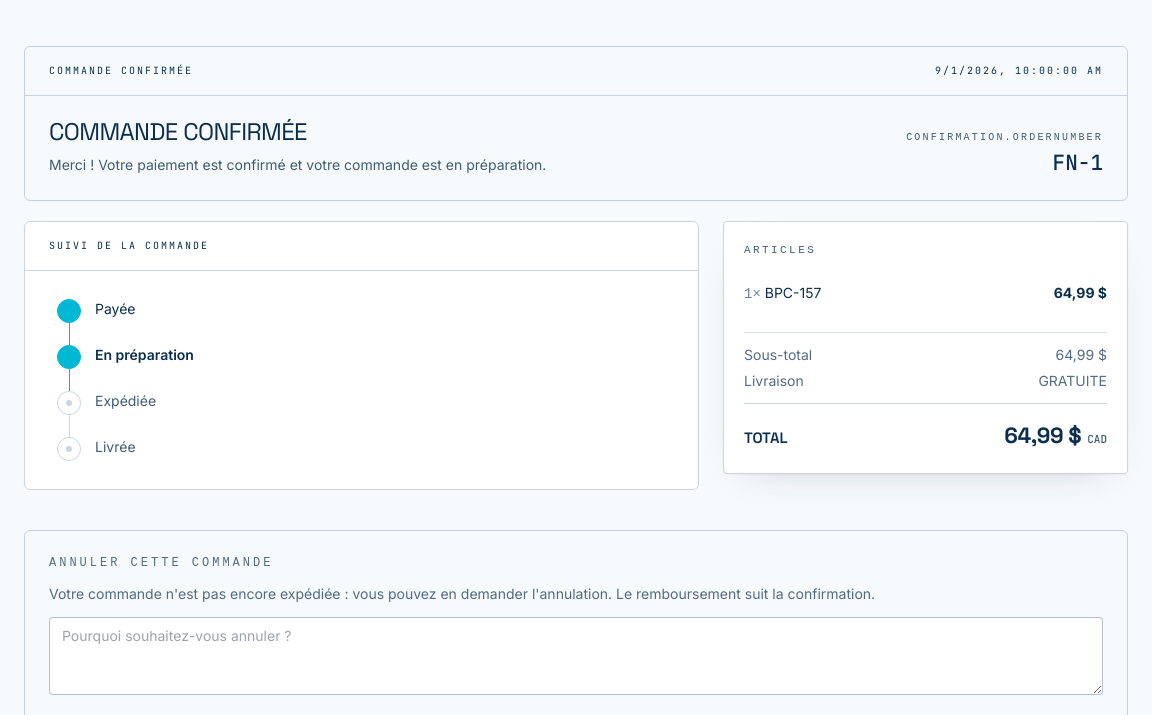
Test: demande ou renvoyer les fonds quand la commande a ete payee en crypto
Type "Je me suis trompé de dosage" into the text box with test id "refund-reason".
click(576, 656); type("Je me suis trompé de dosage")  # box top-left (49, 617), bottom-right (1103, 695)
(page scrolled)
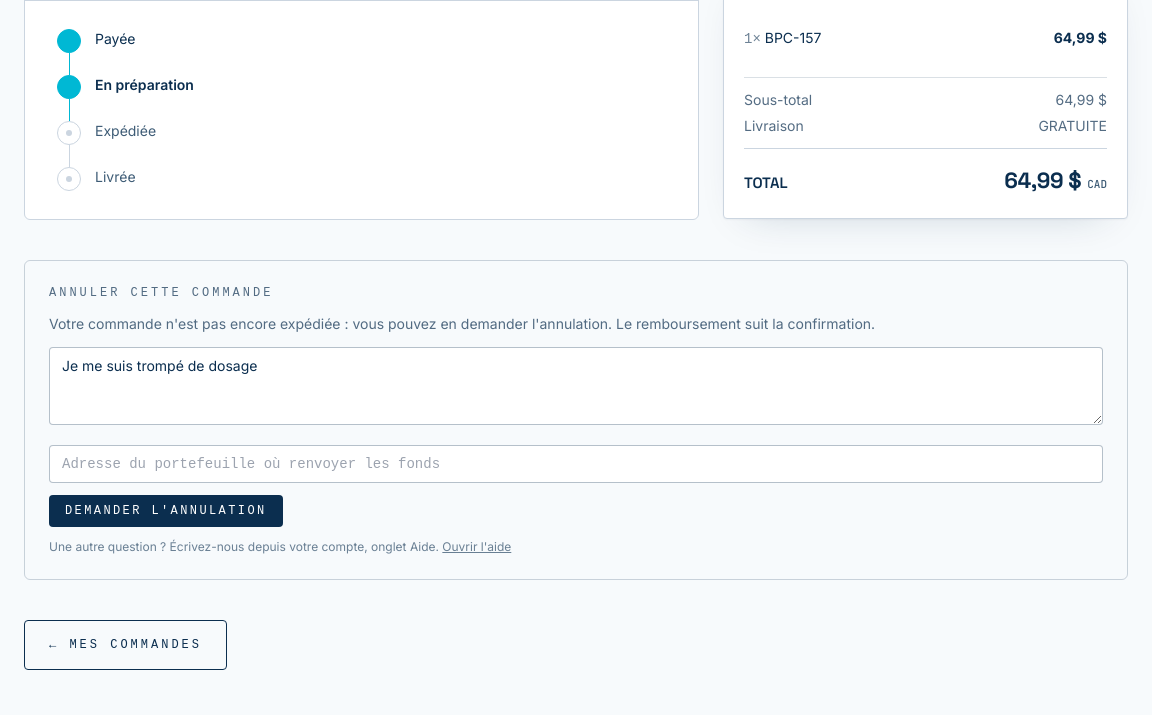
Click the button with test id "refund-submit".
click(166, 511)  # box top-left (49, 495), bottom-right (283, 527)
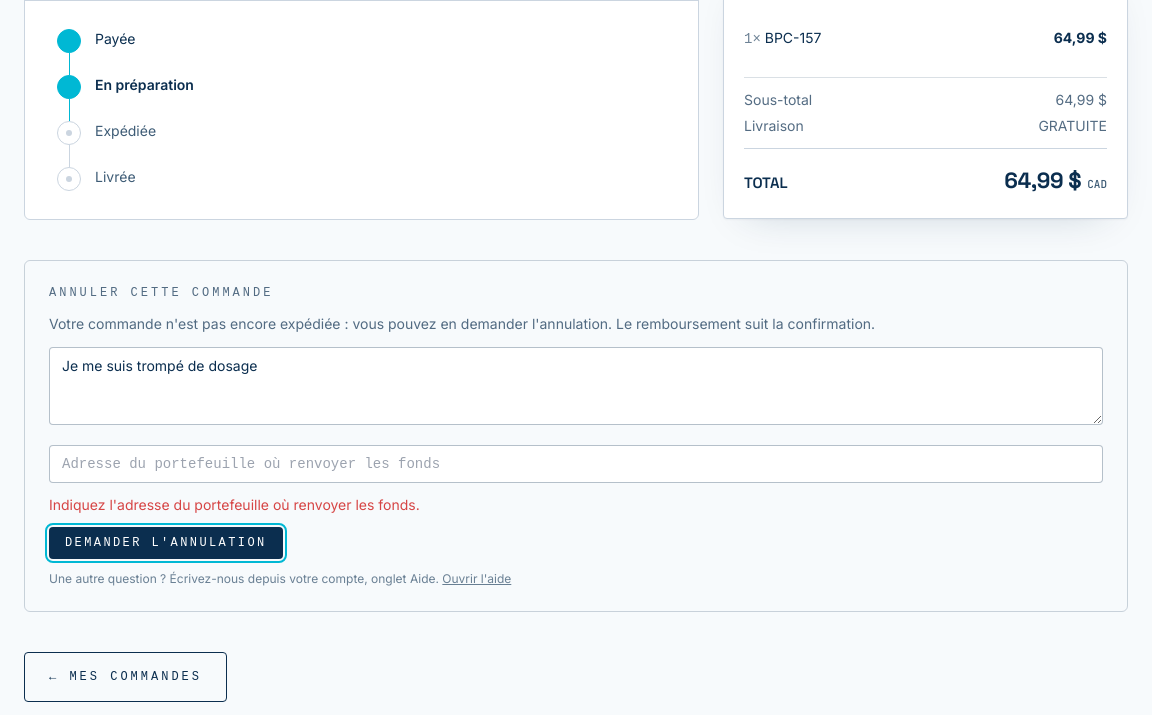
Now the text "Indiquez l'adresse du portefeuille où renvoyer les fonds." is shown, box top-left (49, 496), bottom-right (420, 513)
